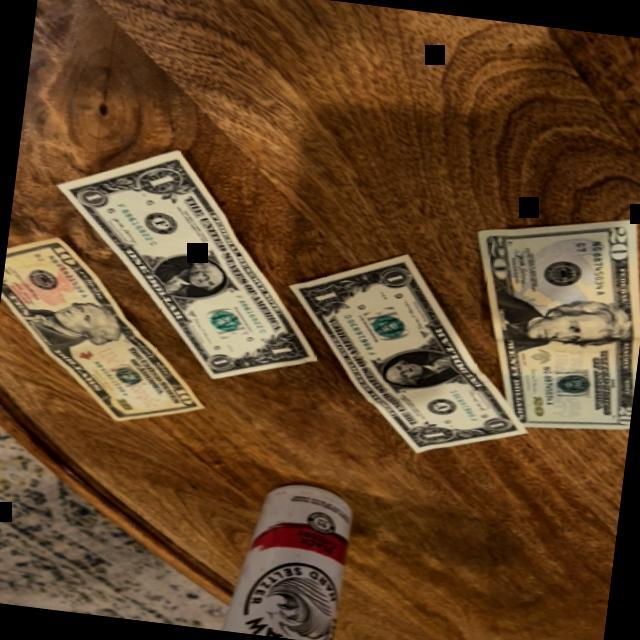one: (36, 134, 340, 390), (271, 238, 547, 466)
ten: (0, 229, 223, 428)
twenty: (454, 198, 640, 440)
